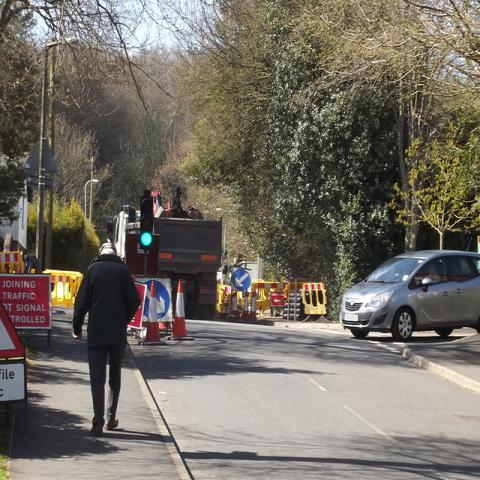car: (339, 249, 479, 343)
truck: (152, 191, 222, 319)
